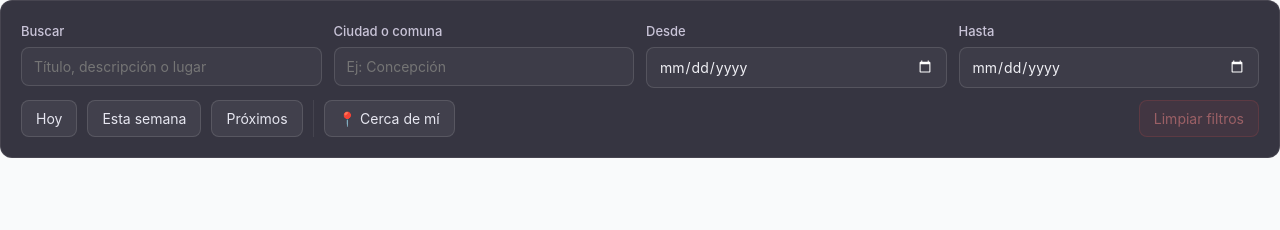
Scenario: EventFilters — "Cerca de mí" elige la comuna más cercana › shows an error when the comuna data cannot be loaded, and can retry
This screenshot has width=1280, height=230.
Click the button "📍 Cerca de mí". click: (389, 118)
box: x1=324 y1=100 x2=455 y2=137
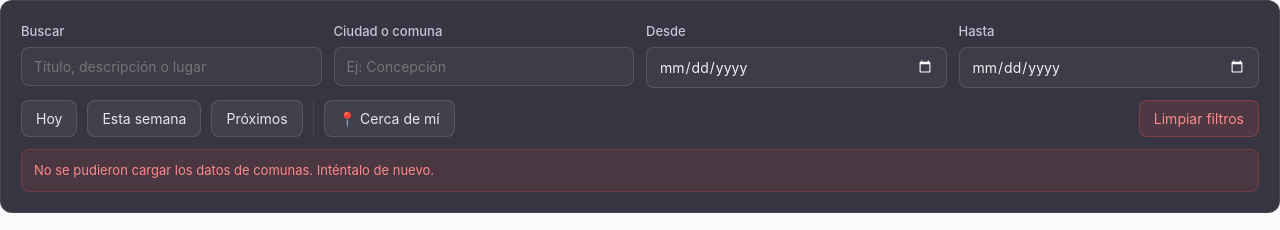
Expected: the message shows "No se pudieron cargar los datos de comunas", x1=34 y1=162 x2=434 y2=178
Click the button "📍 Cerca de mí". click: (389, 118)
box: x1=324 y1=100 x2=455 y2=137
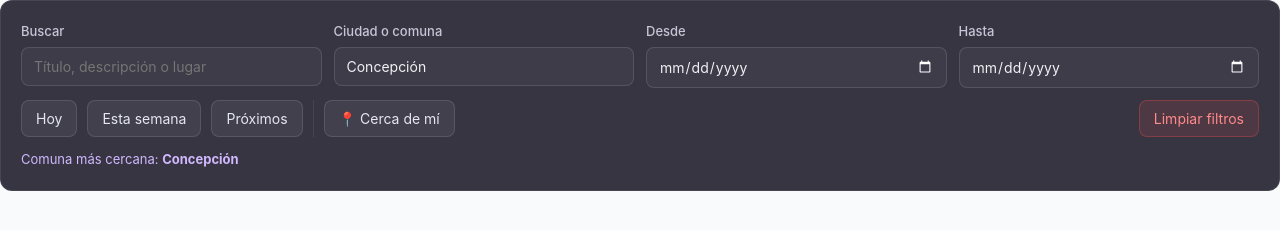
Expected: the message "Comuna más cercana: Concepción" is shown, x1=21 y1=151 x2=239 y2=167
Expected: the text "Concepción" is shown, x1=162 y1=151 x2=239 y2=167
